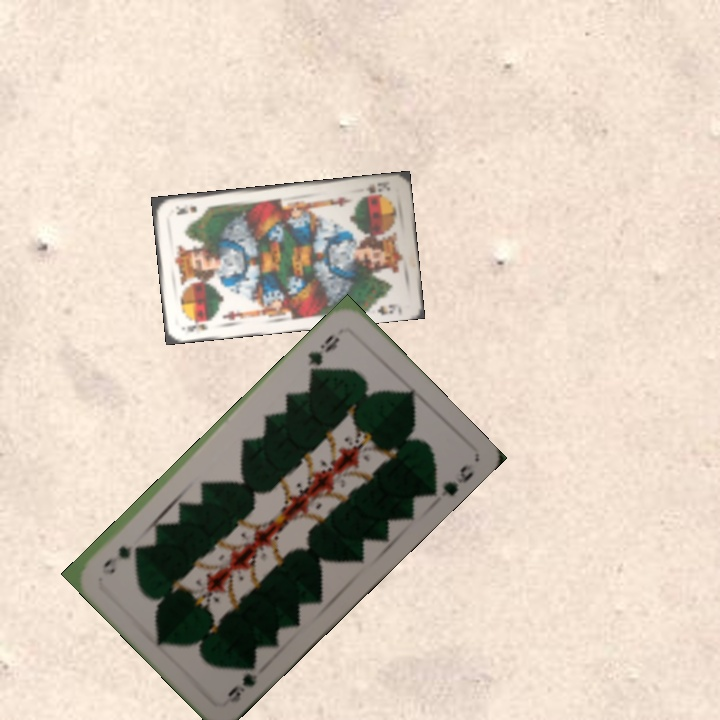G9: (223, 654, 260, 706), (303, 330, 343, 376)
SK: (361, 177, 393, 196), (182, 316, 214, 334)
